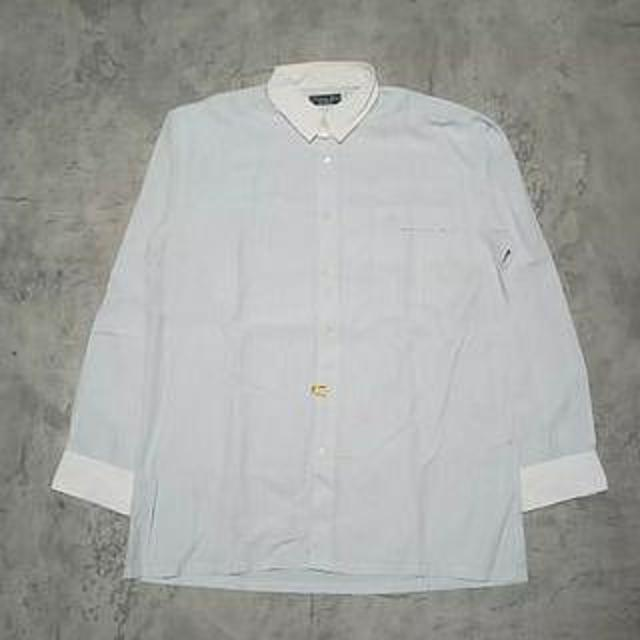SHIRT: (46, 50, 636, 603)
